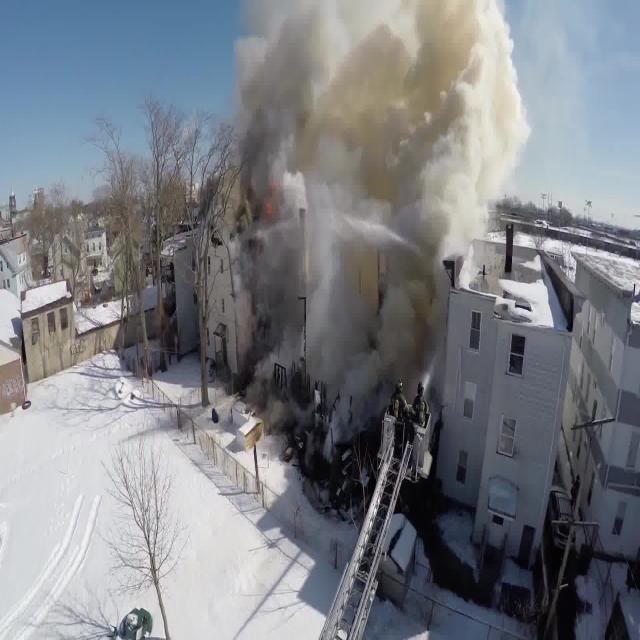Fire: (251, 162, 289, 238)
Smoke: (190, 0, 537, 492)
